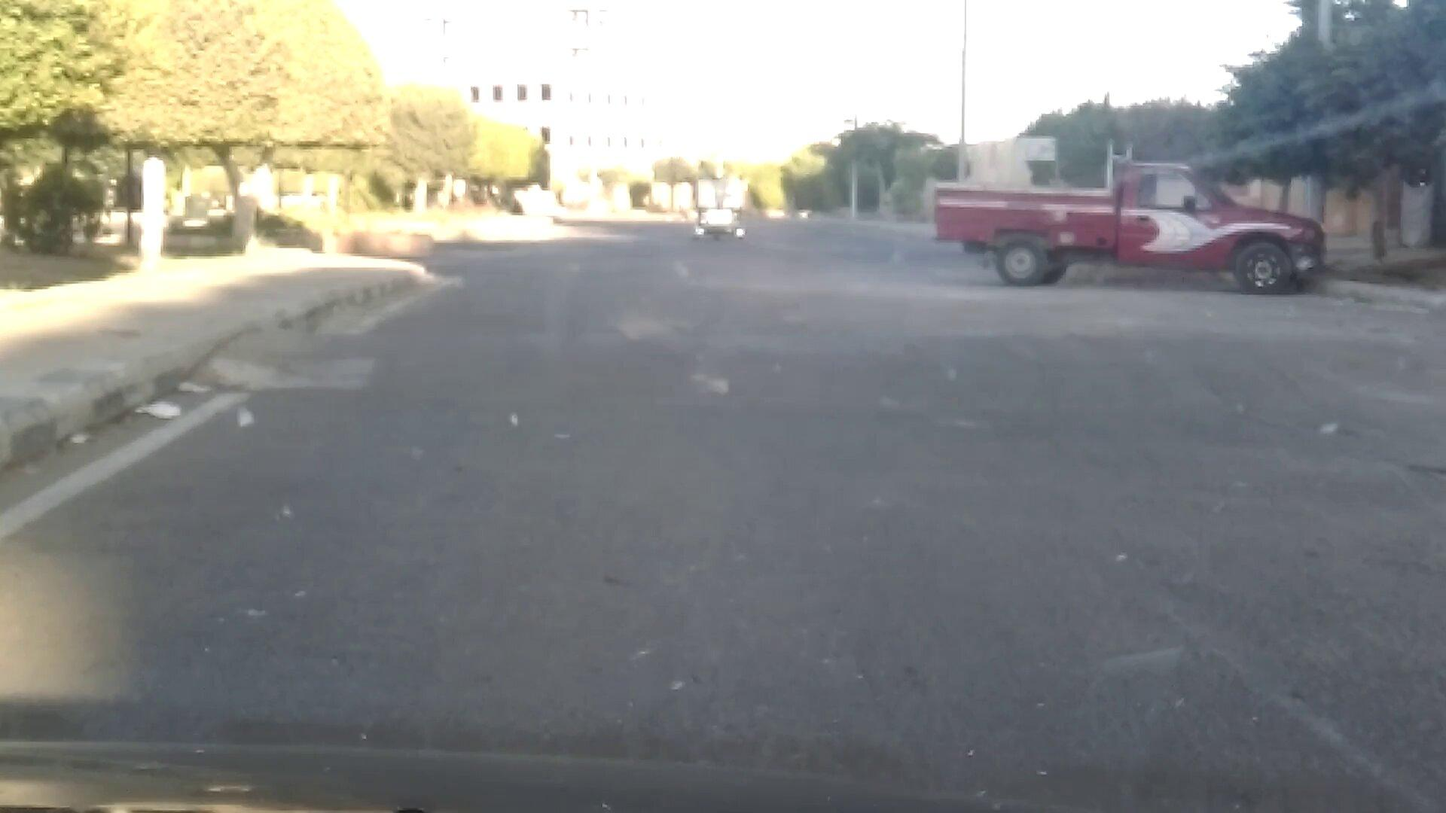Bump: (290, 309, 1442, 403)
